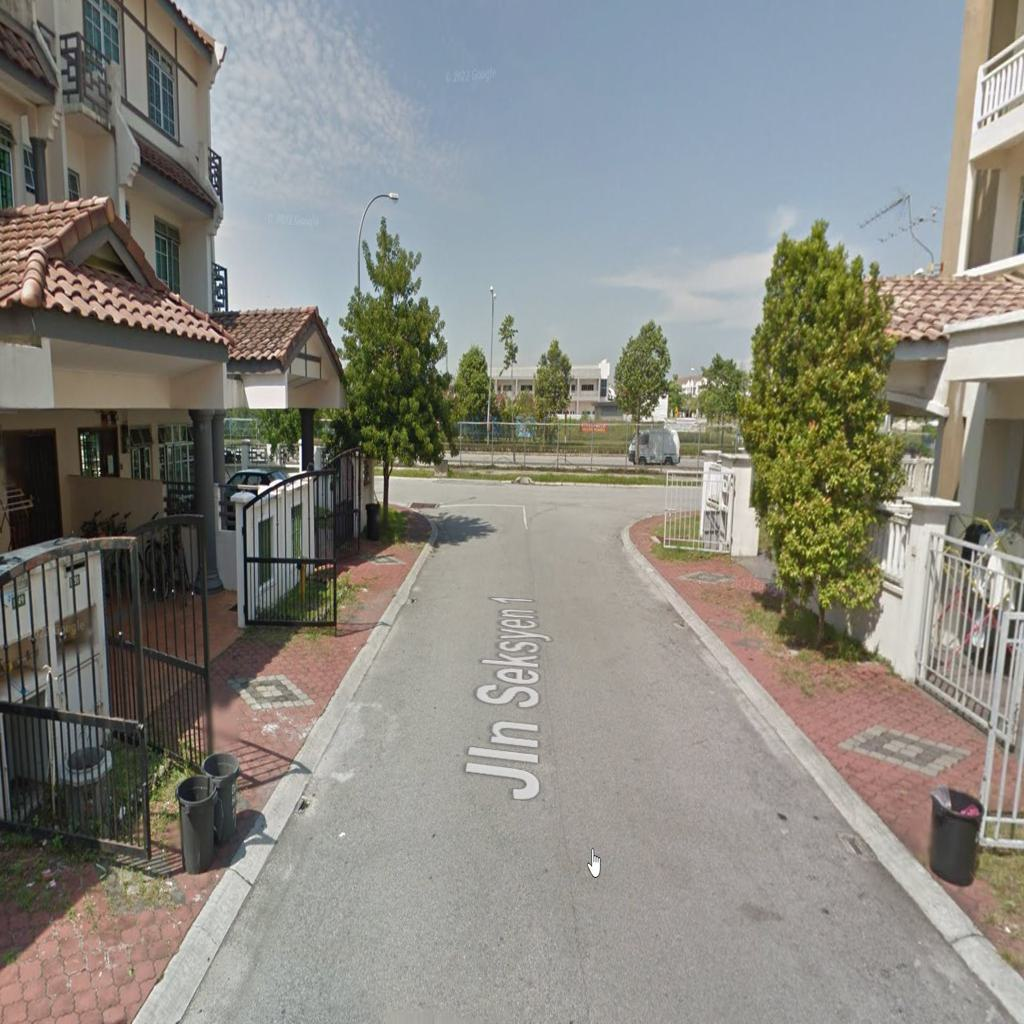Junction: (600, 453, 697, 558), (369, 447, 469, 536)
